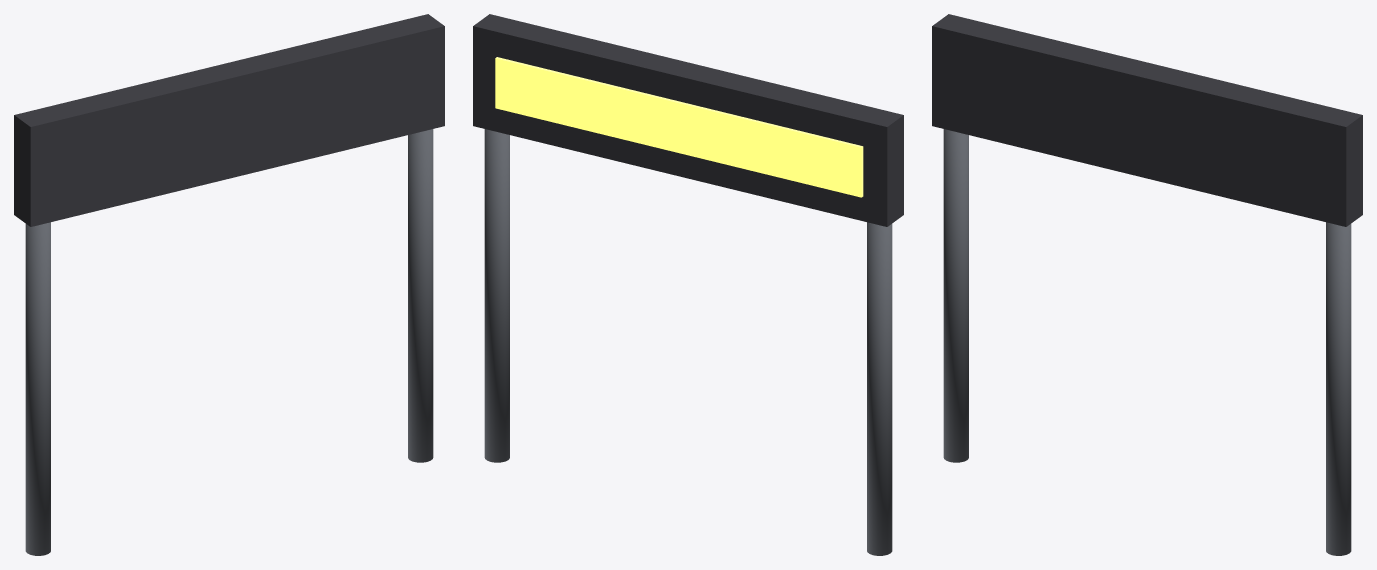
File: prop_denko_keijiban.glb
The picture shows the model from 3 angles, left to right: view 1: azimuth 30°, elevation 25°; view 2: azimuth 150°, elevation 25°; view 3: azimuth 330°, elevation 25°; orthographic projection.
Parts seen in each view (by area): view 1: denko_keijiban; view 2: denko_keijiban; view 3: denko_keijiban.
Part boxes in pixels (box(x1,y1,x2,y2)): denko_keijiban: box(14, 14, 444, 555); denko_keijiban: box(473, 14, 903, 555); denko_keijiban: box(932, 14, 1362, 555).
Bounding box in the file's own units: 2.6 × 2.6 × 0.2.
